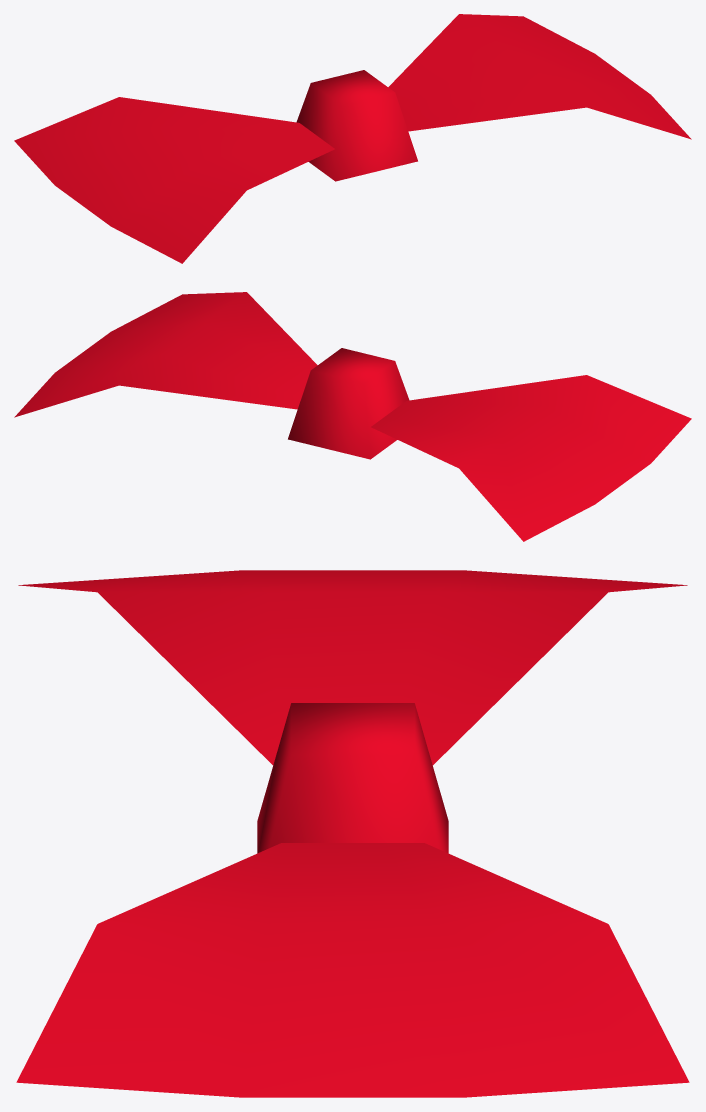
The model's file is shanghai_bow.glb.
3 renders of one model, top to bottom at view 1: azimuth 30°, elevation 25°; view 2: azimuth 150°, elevation 25°; view 3: azimuth 270°, elevation 25°, orthographic. The views are drawn at different scales.
Parts seen in each view (by area): view 1: shanghai_bow; view 2: shanghai_bow; view 3: shanghai_bow.
Boxes of the visible parts, bbox=[...] form: shanghai_bow: bbox=[14, 14, 691, 263]; shanghai_bow: bbox=[14, 292, 691, 541]; shanghai_bow: bbox=[16, 570, 689, 1097].
Bounding box in the file's own units: 13.04 × 1.53 × 7.04.
